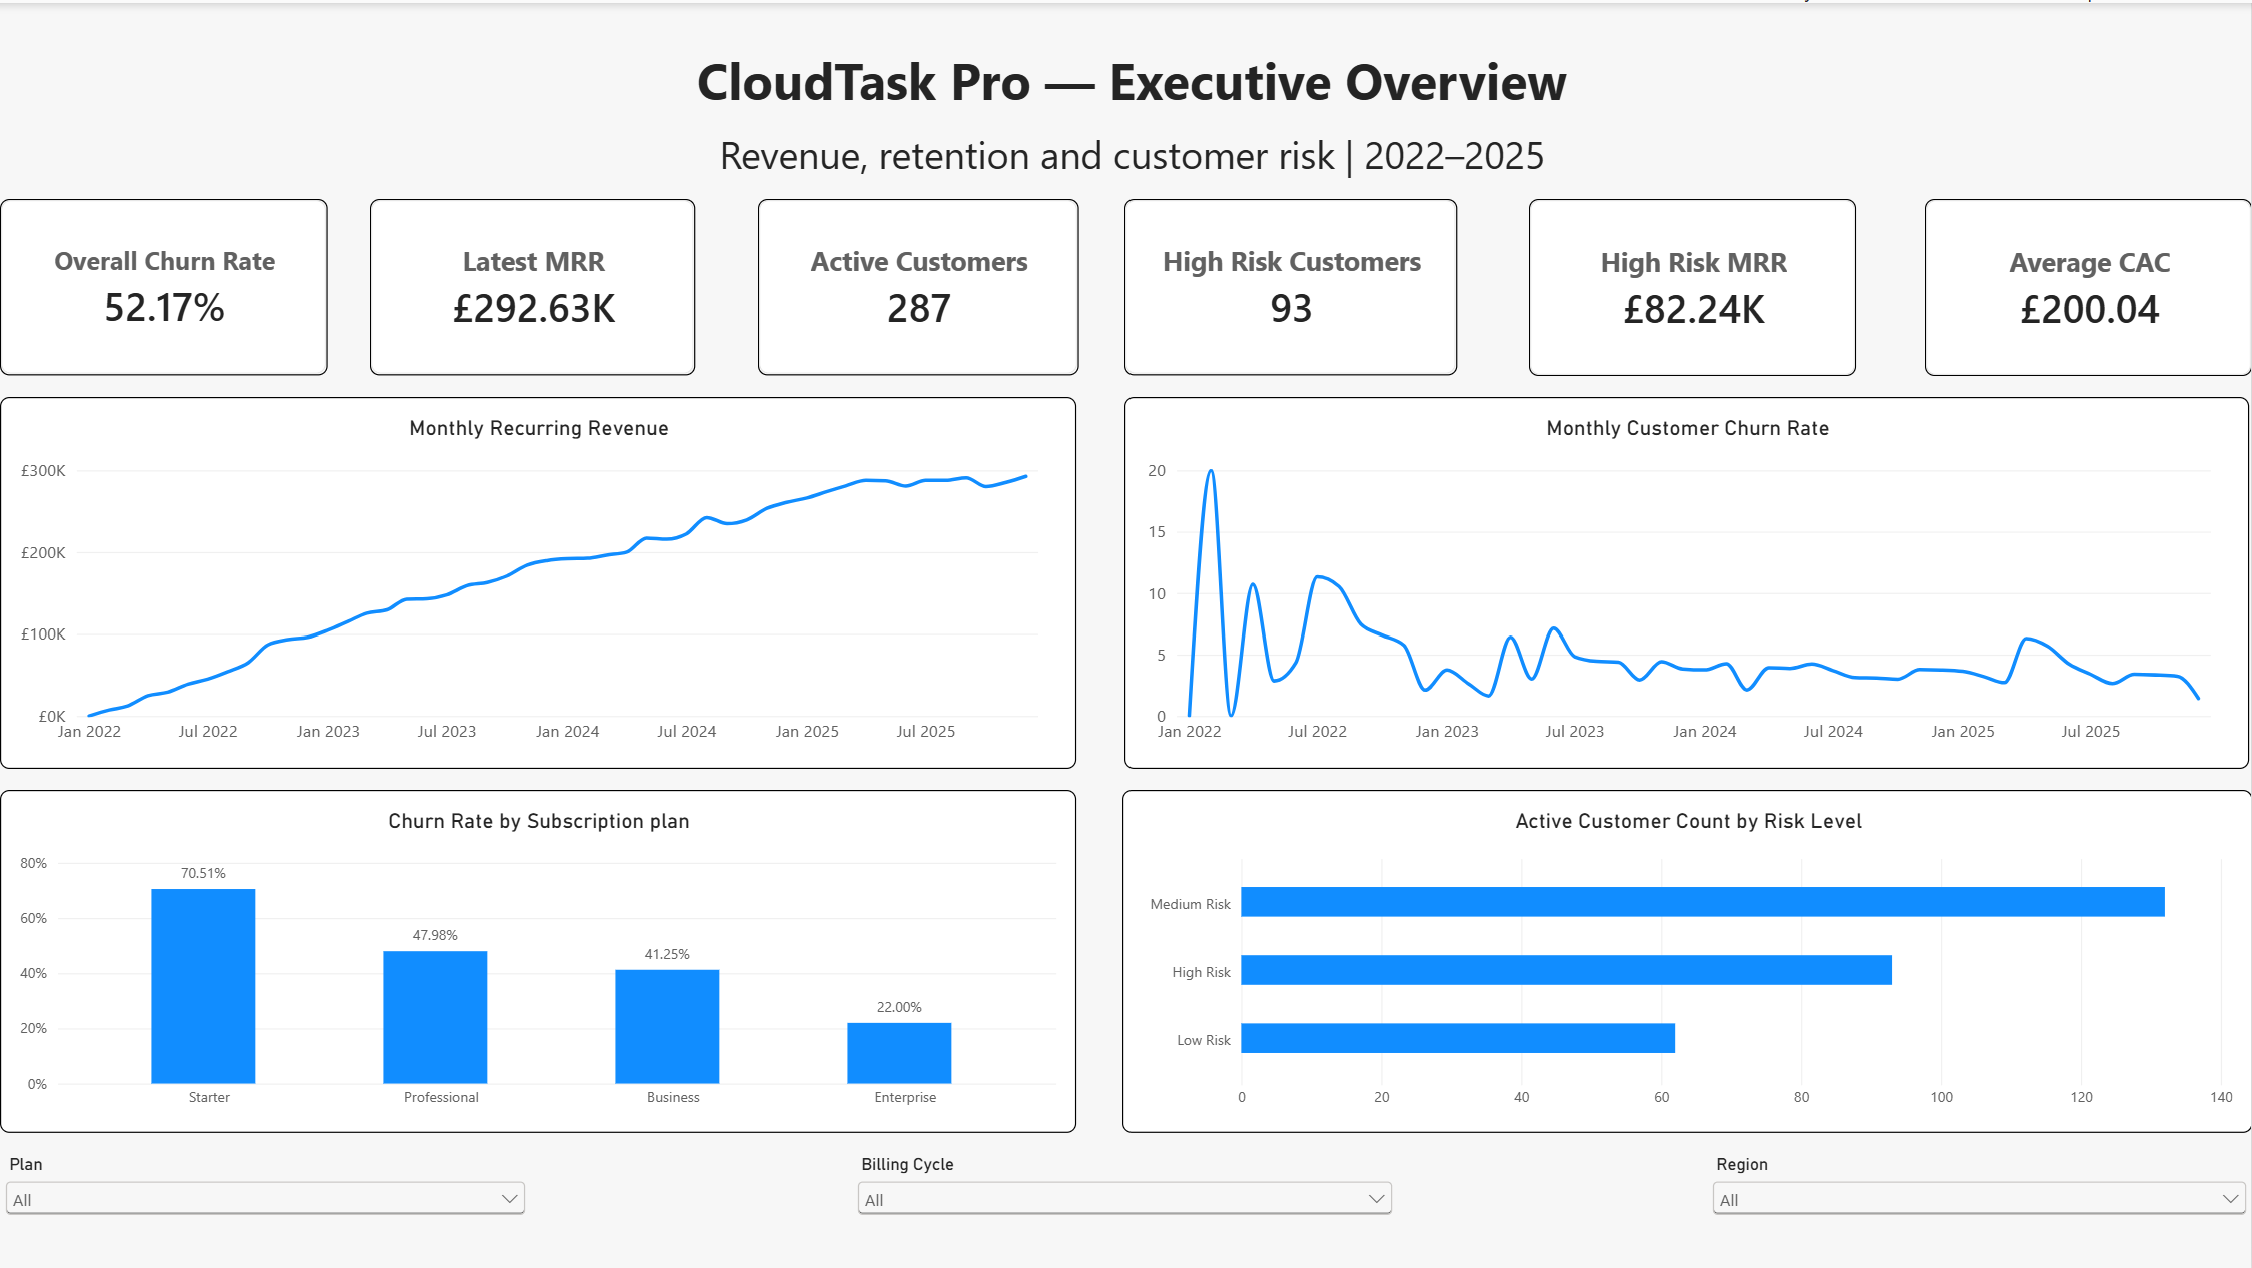

The page's visual inventory and layout, read from the dashboard file:
{"tool":"powerbi","page":{"name":"Executive Overview","canvas":[1920,1080],"ordinal":0},"visuals":[{"type":"textbox","box":[9.9,0,1910.1,109],"z":0},{"type":"textbox","box":[9.6,107.9,1910.4,59.9],"z":1000},{"type":"cardVisual","fields":{"Data":["Measures (2).Overall Churn Rate"]},"box":[0,166.4,279.4,150.6],"z":2000},{"type":"cardVisual","fields":{"Data":["Measures (2).Latest MRR"]},"box":[315,166.4,277.4,150.6],"z":3000},{"type":"cardVisual","fields":{"Data":["Measures (2).Active Customers"]},"box":[645.9,166.4,273.4,150.6],"z":4000},{"type":"cardVisual","fields":{"Data":["Measures (2).High Risk Customers"]},"box":[959,166.4,283.3,150.6],"z":5000},{"type":"cardVisual","fields":{"Data":["Measures (2).High Risk MRR"]},"box":[1303.8,166.4,279,151],"z":6000},{"type":"cardVisual","fields":{"Data":["Measures (2).Average CAC"]},"box":[1640.6,166.4,279,151],"z":7000},{"type":"lineChart","title":"Monthly Recurring Revenue","fields":{"Category":["monthly_revenue_clean.month.Variation.Date Hierarchy.Year","monthly_revenue_clean.month.Variation.Date Hierarchy.Quarter","monthly_revenue_clean.month.Variation.Date Hierarchy.Month"],"Y":["Sum(monthly_revenue_clean.total_mrr)"]},"box":[0,335.6,918.1,316.4],"z":8000},{"type":"lineChart","title":"Monthly Customer Churn Rate","fields":{"Category":["monthly_revenue_clean.month.Variation.Date Hierarchy.Year","monthly_revenue_clean.month.Variation.Date Hierarchy.Month"],"Y":["Avg(monthly_revenue_clean.monthly_churn_rate_pct)"]},"box":[958.8,335.6,958.8,316.4],"z":9000},{"type":"clusteredColumnChart","title":"Churn Rate by Subscription plan","fields":{"Category":["subscriptions_cleaned.plan"],"Y":["Measures (2).Churn Rate"]},"box":[0,671.2,918.1,292.4],"z":10000},{"type":"barChart","fields":{"Category":["subscriptions_cleaned.Risk Level"],"Y":["Measures (2).Active Customer Count"]},"box":[956.4,671.2,963.6,292.4],"z":11000},{"type":"slicer","fields":{"Values":["subscriptions_cleaned.plan"]},"box":[0,980.4,453,103.1],"z":12000},{"type":"slicer","fields":{"Values":["subscriptions_cleaned.billing_cycle"]},"box":[726.3,980.4,465,100.7],"z":13000},{"type":"slicer","fields":{"Values":["subscriptions_cleaned.region"]},"box":[1455,980.4,465,103.1],"z":14000}]}

Visuals, with their boxes in screenshot pixels (x1, y1, x2, y2), scaled from the page's 1920x1080 canvas onto the 2252x1268 screenshot:
textbox: locate(12, 0, 2251, 128)
textbox: locate(11, 127, 2251, 197)
cardVisual - Measures (2).Overall Churn Rate: locate(0, 195, 328, 372)
cardVisual - Measures (2).Latest MRR: locate(369, 195, 695, 372)
cardVisual - Measures (2).Active Customers: locate(758, 195, 1078, 372)
cardVisual - Measures (2).High Risk Customers: locate(1125, 195, 1457, 372)
cardVisual - Measures (2).High Risk MRR: locate(1529, 195, 1856, 373)
cardVisual - Measures (2).Average CAC: locate(1924, 195, 2251, 373)
"Monthly Recurring Revenue" lineChart: locate(0, 394, 1077, 765)
"Monthly Customer Churn Rate" lineChart: locate(1125, 394, 2249, 765)
"Churn Rate by Subscription plan" clusteredColumnChart: locate(0, 788, 1077, 1131)
barChart - subscriptions_cleaned.Risk Level x Measures (2).Active Customer Count: locate(1122, 788, 2251, 1131)
slicer - subscriptions_cleaned.plan: locate(0, 1151, 531, 1267)
slicer - subscriptions_cleaned.billing_cycle: locate(852, 1151, 1397, 1267)
slicer - subscriptions_cleaned.region: locate(1707, 1151, 2251, 1267)
